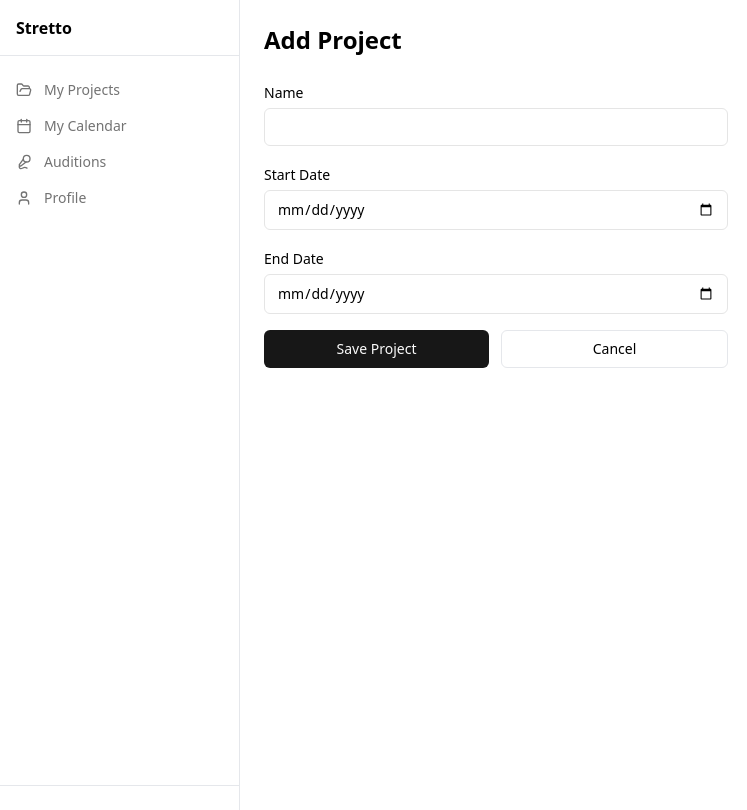
Test: shows end date validation error when end date is before start date
Type "Test Project" into the field with test id "name-input" at (496, 127), box 264,108 -> 728,146
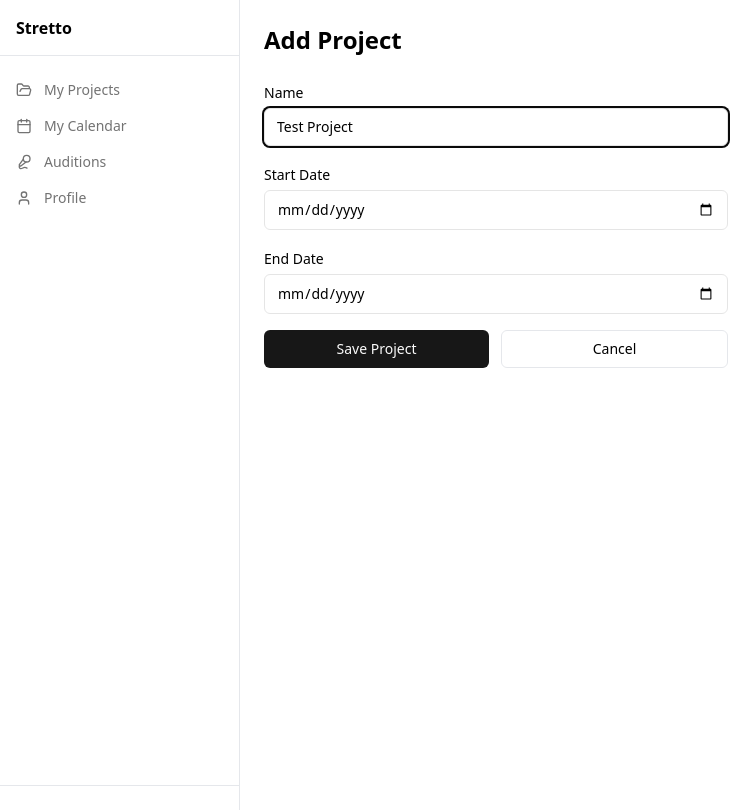
Type "2025-11-30" into the date field with test id "start-date-input" at (496, 210), box 264,190 -> 728,230
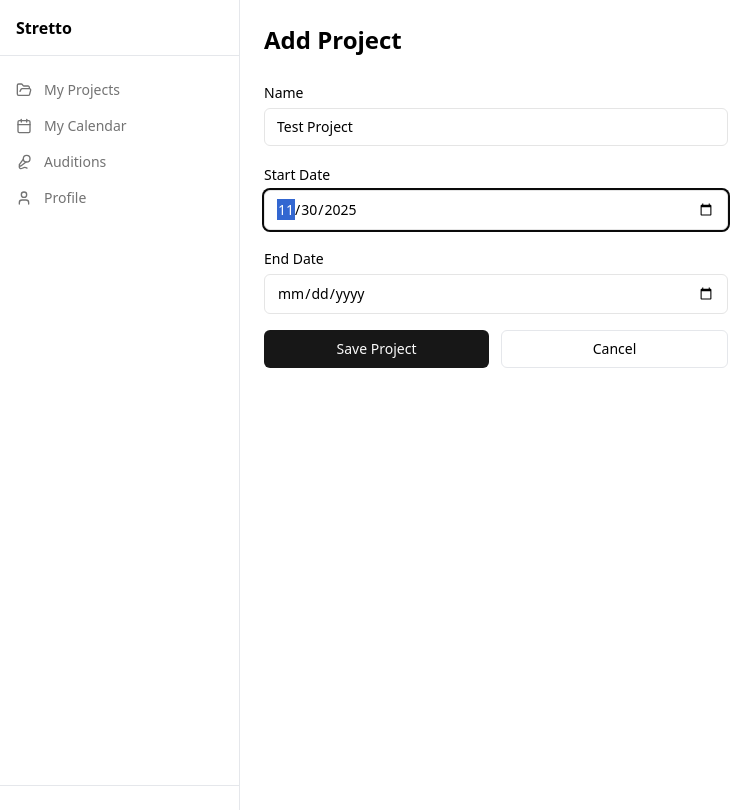
Type "2025-10-01" into the date field with test id "end-date-input" at (496, 294), box 264,274 -> 728,314
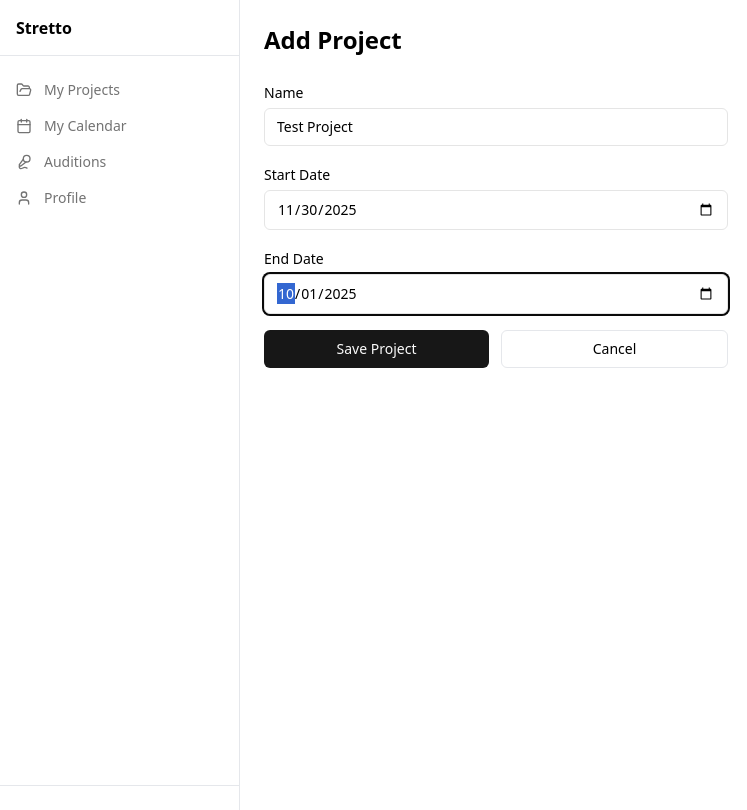
Click the button with test id "submit-button" at (376, 349), box 264,330 -> 489,368
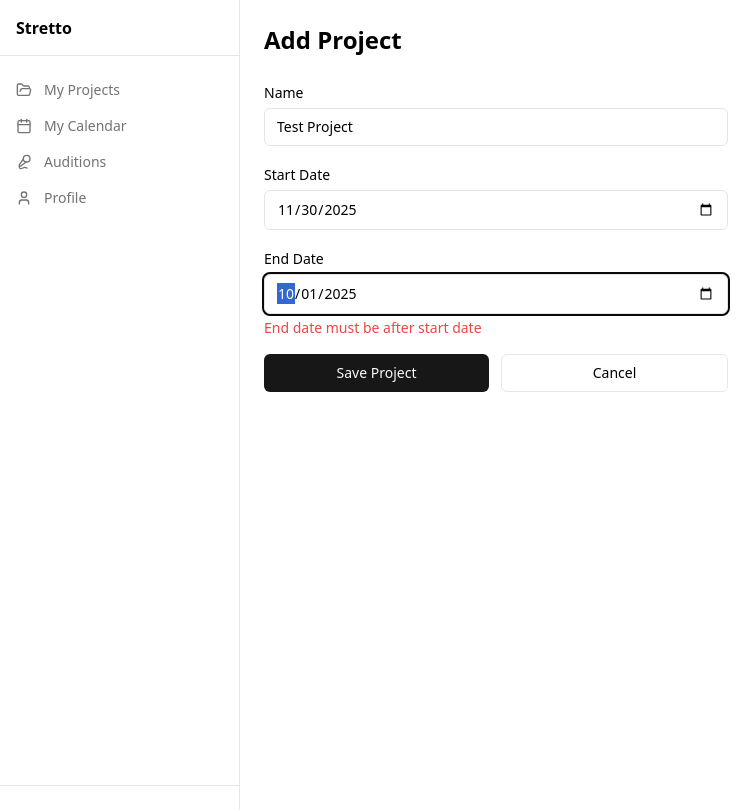
Check: the text "End date must be after start date" is shown, box 264,318 -> 482,337
